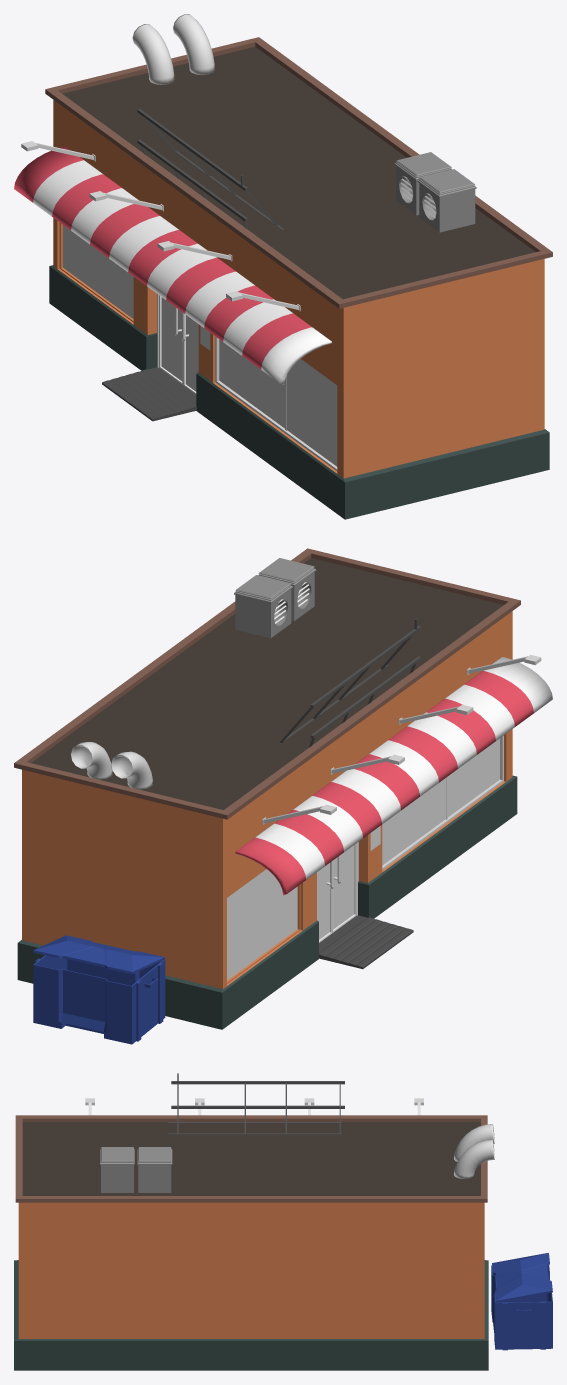
The model's file is Tienda 3.fbx.
3 renders of one model, top to bottom at view 1: azimuth 30°, elevation 25°; view 2: azimuth 150°, elevation 25°; view 3: azimuth 270°, elevation 25°, orthographic. The views are drawn at different scales.
Visible parts, largest first — view 1: Cube.064, Circle.008, Cube.063, Cube.061, Cube.062, Cube.048, Cube.045, Cube.049, Circle.007, Circle.006, Cube.058, Cube.055; view 2: Cube.064, Circle.008, Cube.063, Cube.047, Cube.061, Cube.062, Cube.049, Cube.046, Cube.045, Cube.048, Cube.055, Circle.006 (+2 smaller); view 3: Cube.064, Cube.063, Cube.047, Cube.045, Cube.046, Cube.049, Cube.048, Circle.007, Circle.006.
Boxes of the visible parts, left/top/right/bottom form: Cube.064: left=49, top=46, right=549, bottom=519; Circle.008: left=14, top=146, right=331, bottom=384; Cube.063: left=45, top=37, right=552, bottom=308; Cube.061: left=215, top=336, right=337, bottom=471; Cube.062: left=102, top=367, right=196, bottom=421; Cube.048: left=417, top=169, right=476, bottom=232; Cube.045: left=137, top=109, right=284, bottom=230; Cube.049: left=394, top=152, right=451, bottom=215; Circle.007: left=173, top=14, right=214, bottom=75; Circle.006: left=132, top=24, right=174, bottom=84; Cube.058: left=161, top=297, right=182, bottom=381; Cube.055: left=186, top=315, right=198, bottom=391; Cube.064: left=17, top=558, right=517, bottom=1029; Circle.008: left=235, top=657, right=552, bottom=895; Cube.063: left=14, top=548, right=520, bottom=819; Cube.047: left=33, top=955, right=165, bottom=1044; Cube.061: left=382, top=735, right=503, bottom=869; Cube.062: left=319, top=915, right=413, bottom=969; Cube.049: left=234, top=575, right=292, bottom=638; Cube.046: left=33, top=935, right=164, bottom=974; Cube.045: left=278, top=619, right=421, bottom=747; Cube.048: left=258, top=558, right=316, bottom=620; Cube.055: left=333, top=845, right=354, bottom=929; Circle.006: left=111, top=751, right=152, bottom=789; Cube.064: left=14, top=1122, right=488, bottom=1370; Cube.063: left=15, top=1115, right=487, bottom=1202; Cube.047: left=491, top=1265, right=552, bottom=1350; Cube.045: left=168, top=1073, right=344, bottom=1134; Cube.046: left=492, top=1253, right=552, bottom=1302; Cube.049: left=137, top=1147, right=172, bottom=1192; Cube.048: left=100, top=1147, right=134, bottom=1192; Circle.007: left=454, top=1139, right=494, bottom=1178; Circle.006: left=454, top=1124, right=494, bottom=1161.
Size of the model in its own units: 1555 by 1443 by 3258.
